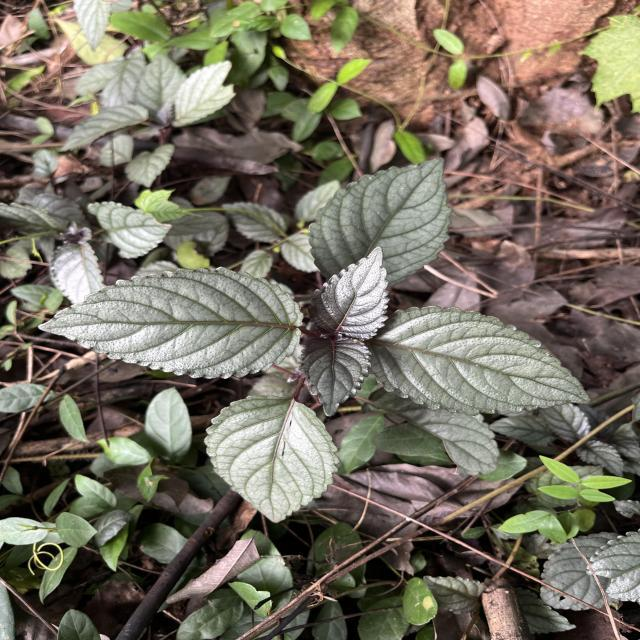Hemigraphis colorata: (36, 264, 306, 382), (366, 304, 595, 417), (304, 154, 454, 290), (202, 394, 343, 524), (306, 245, 392, 342), (296, 336, 373, 418), (585, 526, 640, 606)
